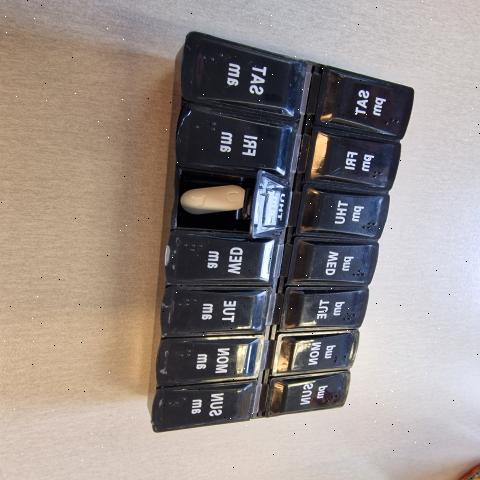Open: (174, 169, 273, 236)
